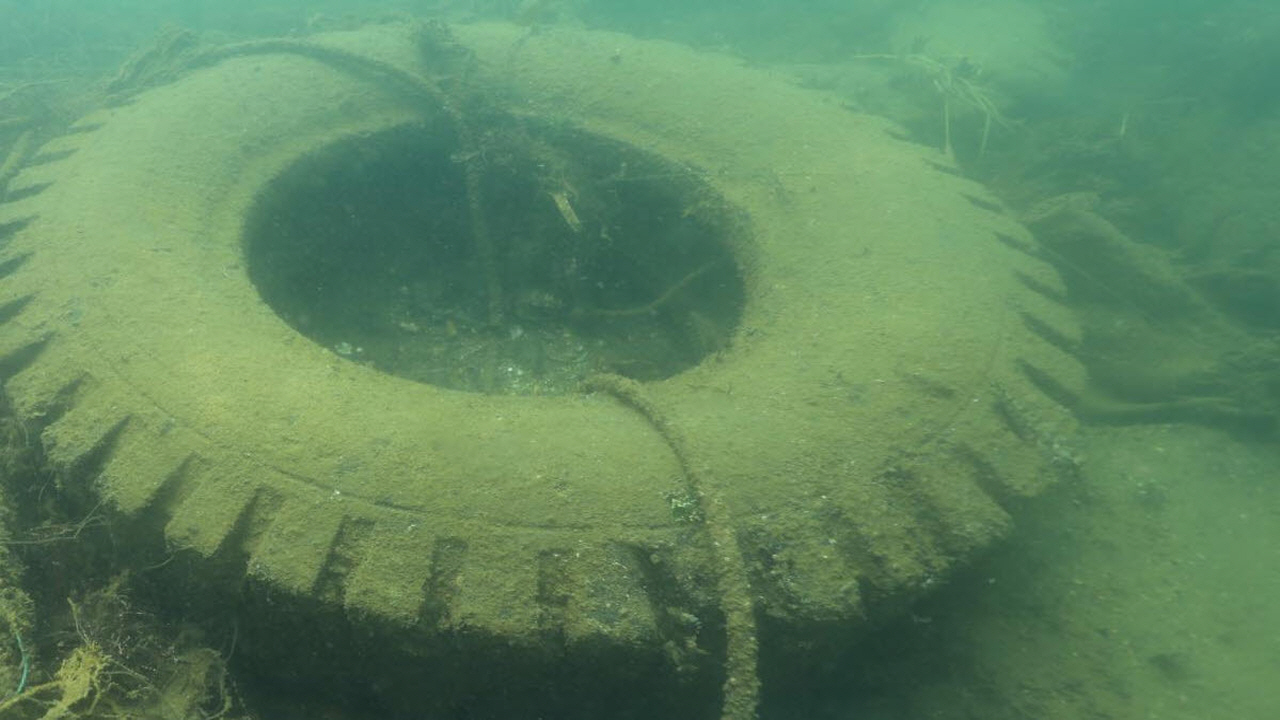rope: (108, 32, 504, 364), (578, 369, 761, 718)
tire: (0, 17, 1086, 716)
